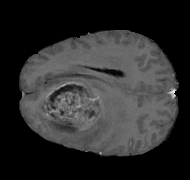Edema: (22, 64, 114, 145)
EnhancingTumors: (41, 84, 107, 119)
Necrosis: (41, 86, 107, 122)
